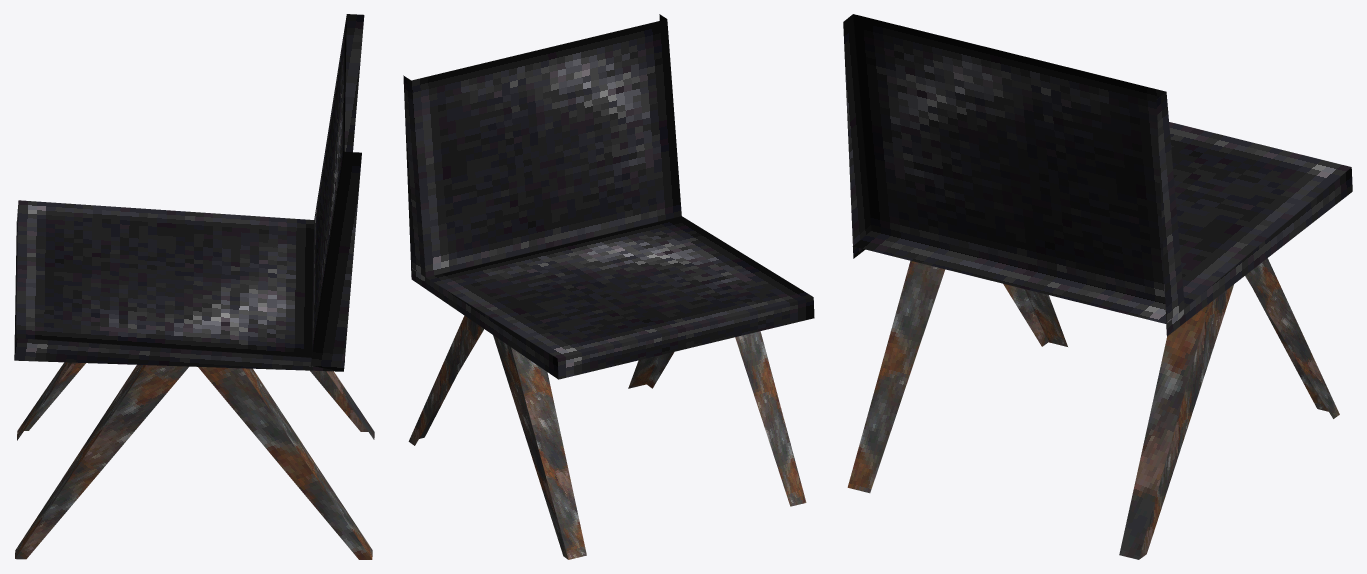
Rendered from primary_267.glb.
The picture shows the model from 3 angles, left to right: view 1: azimuth 30°, elevation 25°; view 2: azimuth 150°, elevation 25°; view 3: azimuth 270°, elevation 25°; orthographic projection. The views are drawn at different scales.
Parts seen in each view (by area): view 1: Object; view 2: Object; view 3: Object.
Boxes of the visible parts, bbox=[...] form: Object: bbox=[14, 14, 374, 559]; Object: bbox=[403, 14, 814, 559]; Object: bbox=[843, 14, 1352, 559].
Size of the model in its own units: 0.9168 by 0.8928 by 0.8965.
2 materials, 2 textured.
